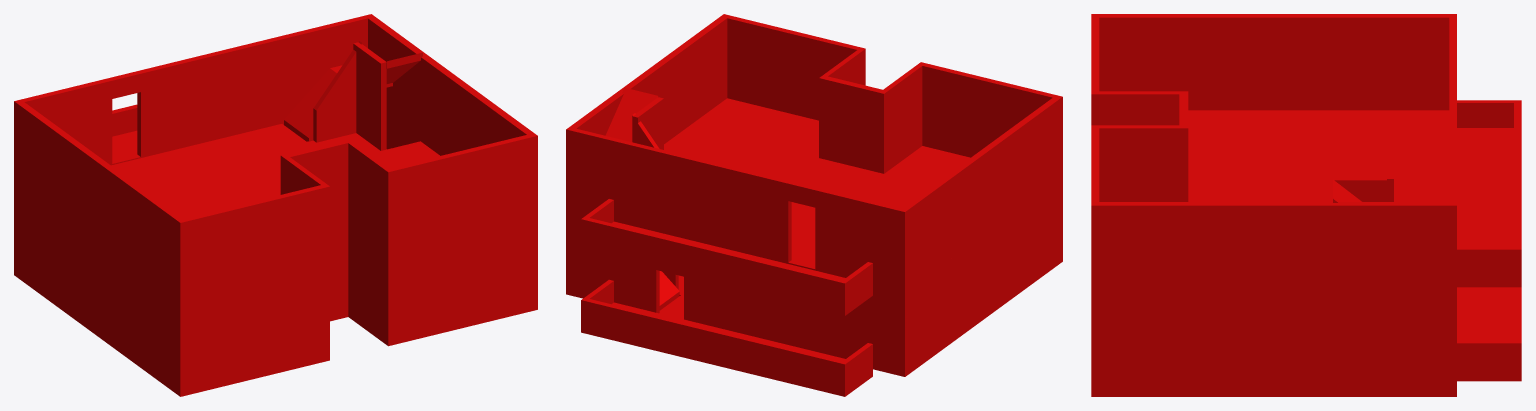
Rendered from SM_Bld_HighRise_Medium_01_Interior_Stack_01_Collision.fbx.
The picture shows the model from 3 angles, left to right: view 1: azimuth 30°, elevation 25°; view 2: azimuth 150°, elevation 25°; view 3: azimuth 270°, elevation 25°; orthographic projection. The views are drawn at different scales.
Parts seen in each view (by area): view 1: SM_Bld_HighRise_Medium_01_Interior_Stack_01_Collision; view 2: SM_Bld_HighRise_Medium_01_Interior_Stack_01_Collision; view 3: SM_Bld_HighRise_Medium_01_Interior_Stack_01_Collision.
Part boxes in pixels (x1=…): SM_Bld_HighRise_Medium_01_Interior_Stack_01_Collision: x1=14, y1=14, x2=537, y2=396; SM_Bld_HighRise_Medium_01_Interior_Stack_01_Collision: x1=566, y1=14, x2=1062, y2=396; SM_Bld_HighRise_Medium_01_Interior_Stack_01_Collision: x1=1091, y1=14, x2=1521, y2=396.
Size of the model in its own units: 1290 by 641 by 1224.
